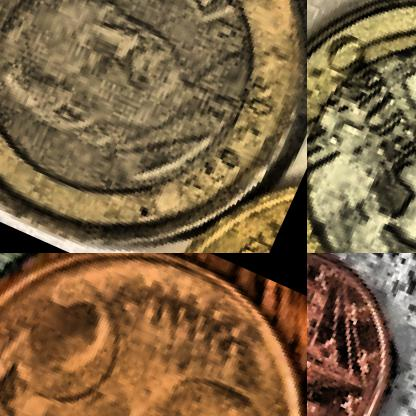coin: (0, 0, 306, 252), (0, 253, 306, 415), (307, 0, 415, 252), (307, 253, 415, 415)
